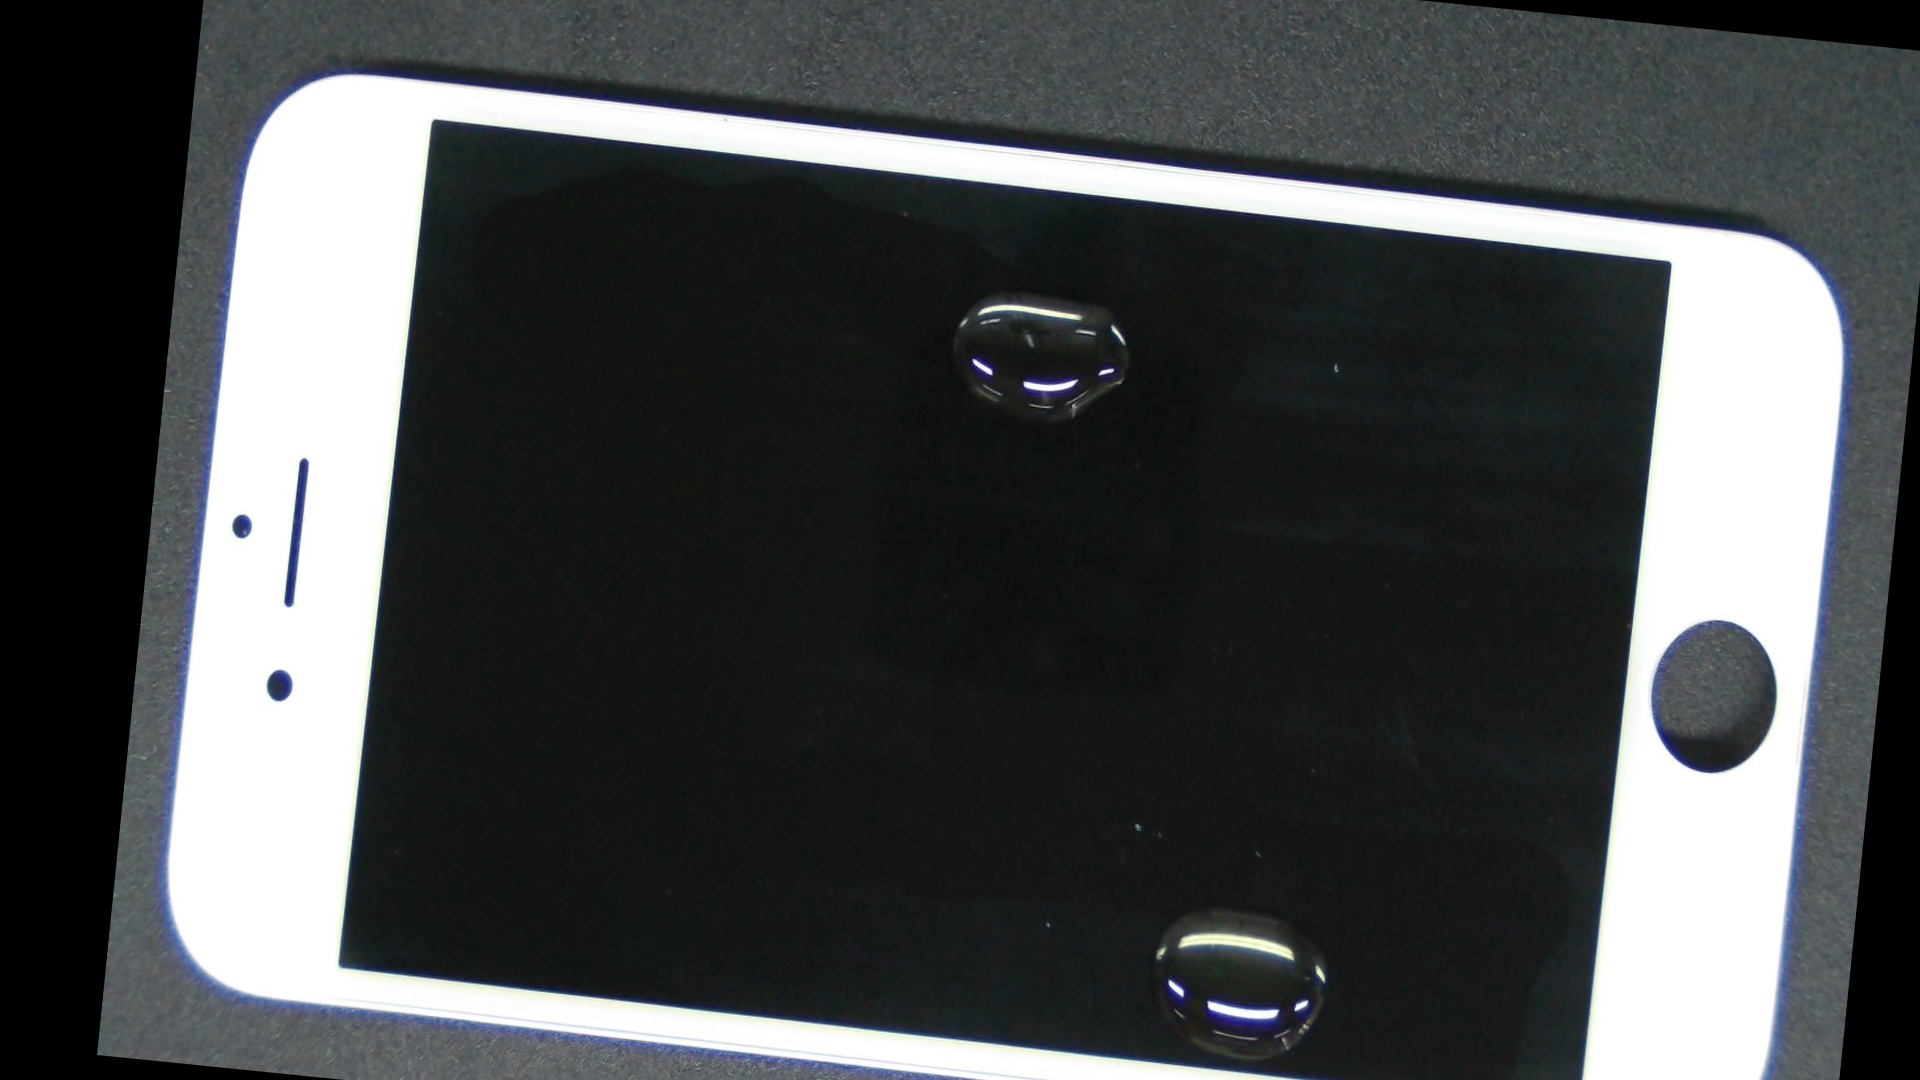oil: (645, 393, 1809, 1080), (584, 83, 1449, 496)
